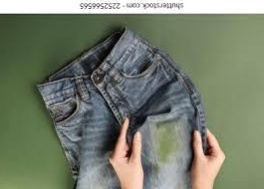earth: (155, 125, 179, 164)
